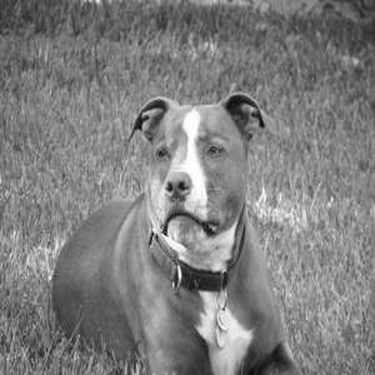dog: (49, 80, 305, 372)
